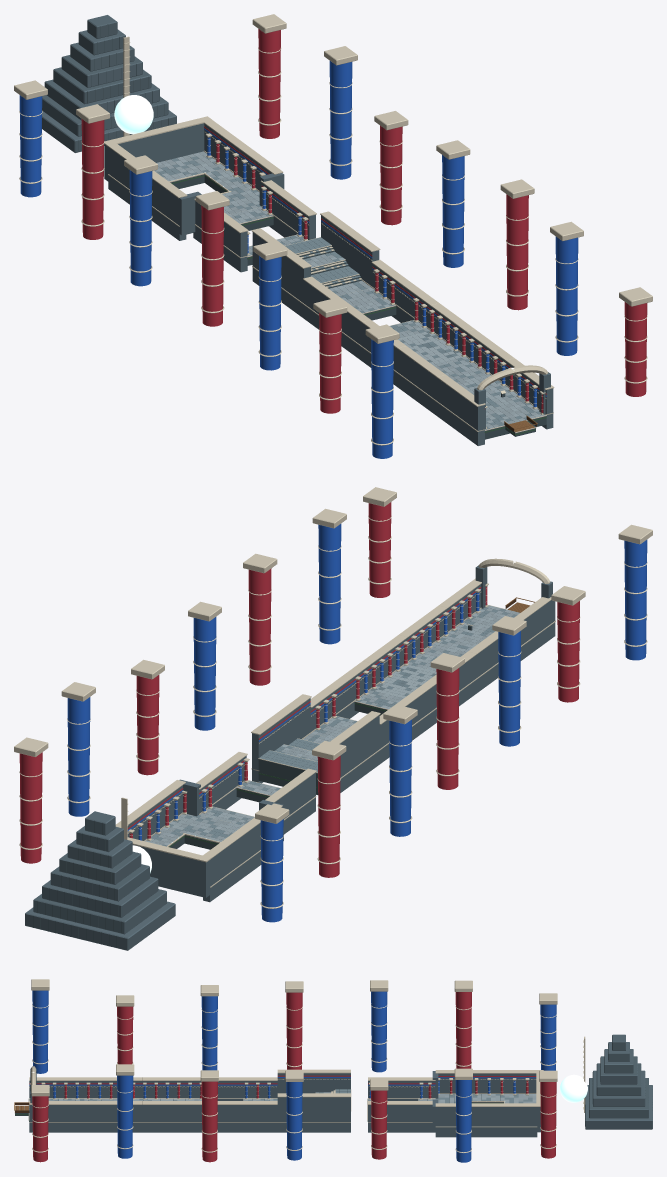
The model's file is temple.glb.
3 renders of one model, top to bottom at view 1: azimuth 30°, elevation 25°; view 2: azimuth 150°, elevation 25°; view 3: azimuth 270°, elevation 25°, orthographic. The views are drawn at different scales.
Parts seen in each view (by area): view 1: tmp_horizon, tmp_boss, tmp_entrance, tmp_2-4, tmp_2-3, tmp_2-5, tmp_2-1, tmp_2-2; view 2: tmp_horizon, tmp_boss, tmp_2-4, tmp_2-3, tmp_entrance, tmp_2-5, tmp_2-1, tmp_2-2; view 3: tmp_horizon, tmp_boss, tmp_2-3, tmp_2-4, tmp_2-5, tmp_2-2, tmp_entrance, tmp_2-1.
Boxes of the visible parts, x1,y1,x2,y2 form: tmp_horizon: (14, 14, 652, 458); tmp_boss: (104, 116, 284, 240); tmp_entrance: (437, 358, 554, 445); tmp_2-4: (251, 211, 380, 318); tmp_2-3: (303, 260, 439, 361); tmp_2-5: (193, 180, 316, 272); tmp_2-1: (398, 329, 514, 416); tmp_2-2: (362, 303, 474, 387); tmp_horizon: (14, 487, 652, 950); tmp_boss: (115, 779, 283, 902); tmp_2-4: (251, 694, 380, 794); tmp_2-3: (310, 661, 436, 764); tmp_entrance: (439, 558, 555, 660); tmp_2-5: (196, 752, 316, 834); tmp_2-1: (399, 605, 498, 693); tmp_2-2: (363, 635, 476, 706); tmp_horizon: (31, 979, 652, 1162); tmp_boss: (432, 1070, 543, 1137); tmp_2-3: (193, 1077, 277, 1132); tmp_2-4: (277, 1069, 351, 1132); tmp_2-5: (367, 1077, 435, 1132); tmp_2-2: (142, 1077, 194, 1132); tmp_entrance: (14, 1066, 85, 1132); tmp_2-1: (84, 1077, 143, 1132).
Size of the model in its own units: 82.12 by 36.78 by 226.
